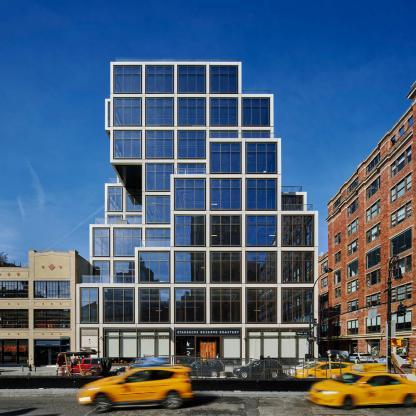Balcony: (115, 58, 238, 62), (82, 275, 135, 284), (209, 133, 276, 139), (95, 218, 143, 224), (282, 205, 313, 212), (281, 186, 302, 192), (242, 90, 270, 93)
Building Outline: (76, 58, 318, 367)
Dont: (143, 353, 380, 378), (76, 366, 196, 414), (296, 268, 333, 358), (55, 348, 112, 376), (287, 361, 356, 378), (112, 357, 171, 376), (233, 360, 283, 378), (186, 359, 224, 377)
Door: (200, 341, 216, 365)
Facade: (120, 62, 242, 367)
Floor: (76, 287, 318, 324), (135, 251, 318, 284), (171, 215, 318, 248), (110, 97, 274, 126), (171, 178, 281, 211), (111, 130, 207, 159), (89, 224, 171, 257), (206, 142, 281, 175), (90, 260, 136, 284), (105, 183, 142, 212), (142, 163, 175, 192), (142, 195, 171, 224), (206, 130, 274, 138), (281, 192, 307, 211), (175, 163, 206, 175), (105, 215, 142, 224)
Floor Slab: (135, 247, 318, 251), (76, 324, 318, 327), (76, 284, 318, 287), (110, 126, 274, 130), (171, 211, 318, 215), (110, 94, 274, 97), (111, 159, 207, 163), (89, 224, 171, 228), (175, 175, 281, 178), (206, 138, 281, 142), (110, 62, 242, 64), (90, 257, 139, 261), (105, 212, 142, 215), (142, 192, 174, 195), (281, 192, 307, 195)
Glass Wall: (103, 327, 171, 366), (246, 328, 315, 366), (282, 287, 314, 324), (103, 287, 135, 324), (139, 287, 171, 324), (174, 287, 206, 324), (210, 287, 242, 324), (246, 287, 278, 324), (245, 142, 278, 174), (245, 215, 278, 247), (282, 215, 314, 247), (282, 252, 314, 284), (246, 252, 278, 284), (245, 179, 278, 210), (210, 142, 241, 174), (174, 215, 205, 247), (210, 215, 241, 247), (139, 252, 170, 284), (210, 252, 241, 284), (174, 252, 205, 284), (174, 179, 205, 210), (210, 179, 241, 210), (146, 163, 175, 192), (113, 131, 142, 159), (145, 131, 174, 159), (178, 131, 207, 159), (210, 65, 239, 93), (113, 65, 142, 93), (145, 65, 174, 93), (178, 65, 207, 93), (113, 98, 142, 126), (145, 98, 174, 126), (178, 98, 207, 126), (242, 98, 271, 126), (210, 98, 239, 126), (114, 228, 142, 257), (79, 287, 99, 324), (146, 195, 171, 224), (196, 337, 220, 364), (176, 336, 195, 364), (222, 336, 241, 364), (93, 228, 111, 257), (146, 228, 171, 248), (114, 261, 135, 284), (126, 186, 142, 212), (93, 261, 111, 284), (108, 186, 123, 212), (282, 195, 303, 211), (242, 130, 271, 138), (210, 130, 239, 138), (126, 215, 142, 224), (108, 215, 123, 224)
Ground Floor: (76, 328, 318, 368)
Shop: (176, 330, 240, 336)
Top Floor: (110, 62, 242, 97)
